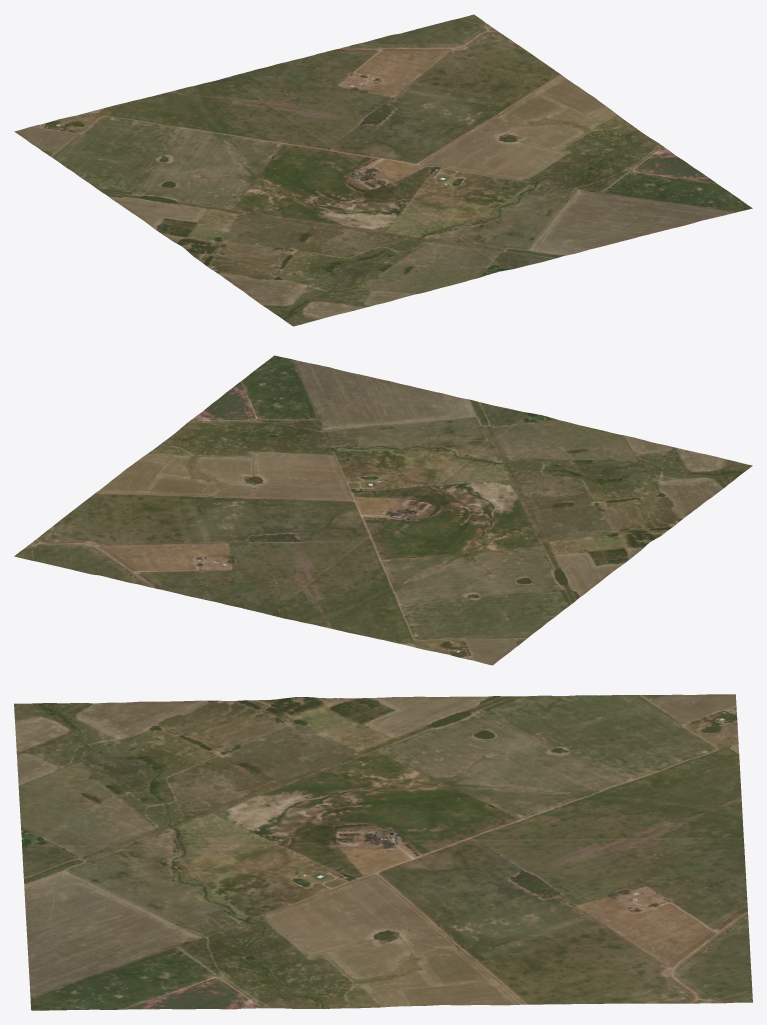
Rendered from terreno.glb.
3 renders of one model, top to bottom at view 1: azimuth 30°, elevation 25°; view 2: azimuth 150°, elevation 25°; view 3: azimuth 270°, elevation 25°, orthographic. The views are drawn at different scales.
Parts seen in each view (by area): view 1: Terreno_DEM_ortofoto; view 2: Terreno_DEM_ortofoto; view 3: Terreno_DEM_ortofoto, Suelo_LiDAR.
Boxes of the visible parts, left/top/right/bottom form: Terreno_DEM_ortofoto: left=14, top=14, right=752, bottom=326; Terreno_DEM_ortofoto: left=14, top=355, right=752, bottom=665; Terreno_DEM_ortofoto: left=14, top=694, right=752, bottom=1010; Suelo_LiDAR: left=365, top=829, right=401, bottom=847.
Size of the model in its own units: 2308 by 20 by 2298.
Materials: 2 (2 with a texture image).
